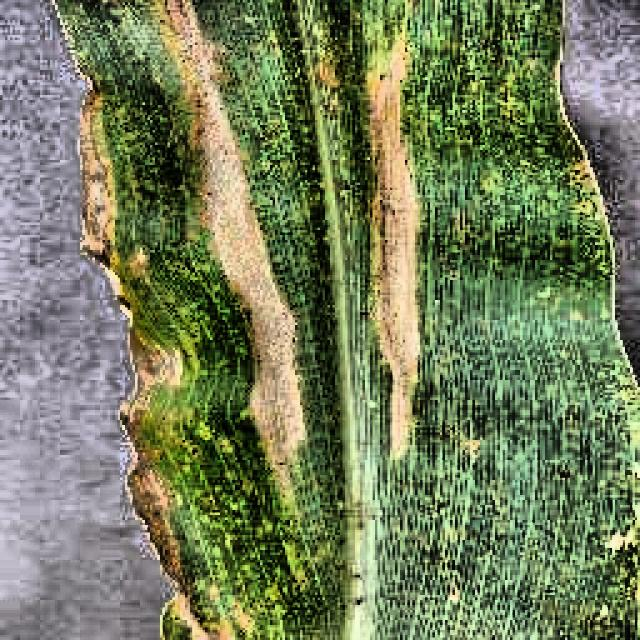blight: (45, 0, 516, 640)
